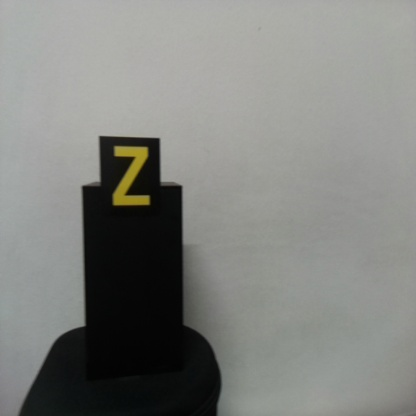id_15: (100, 137, 161, 216)
